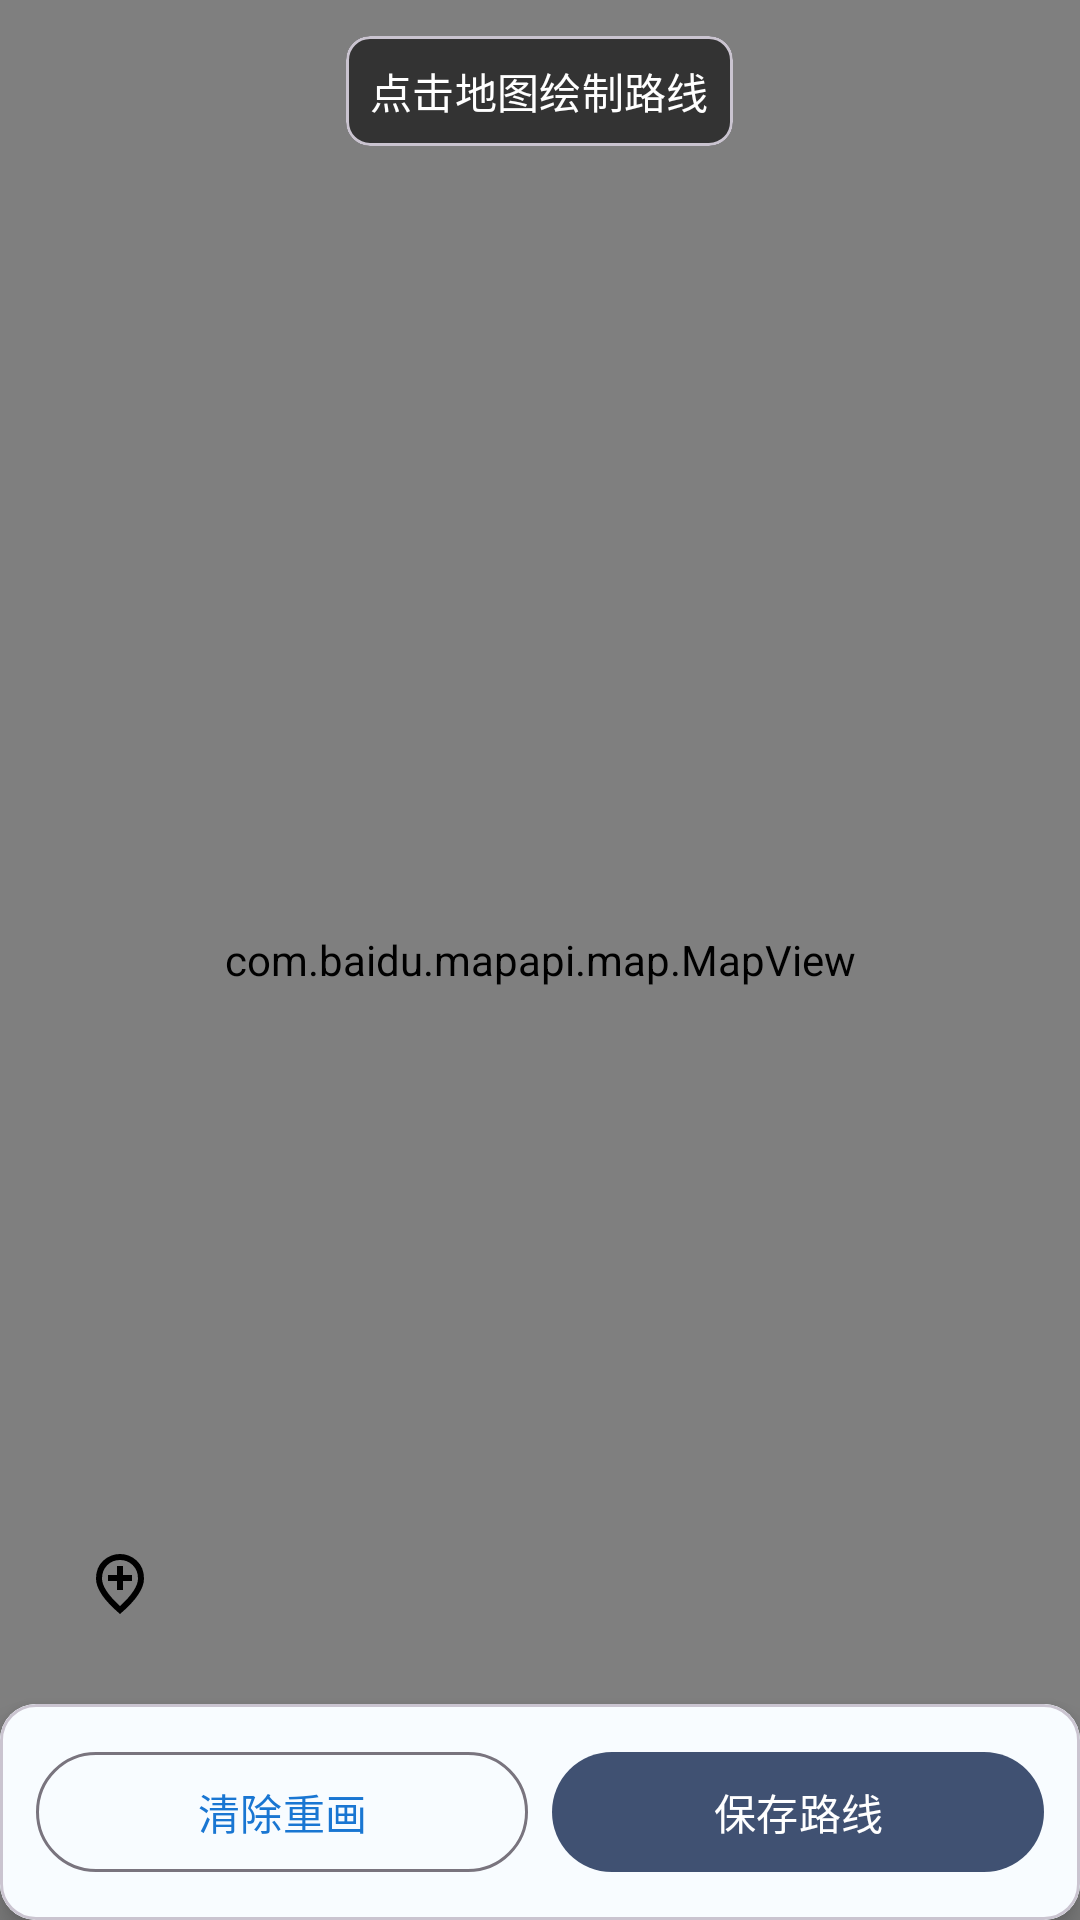

Icons on this 1080×1920 Android screen, each with the point to tap as (x,y):
position: (120,1584)
